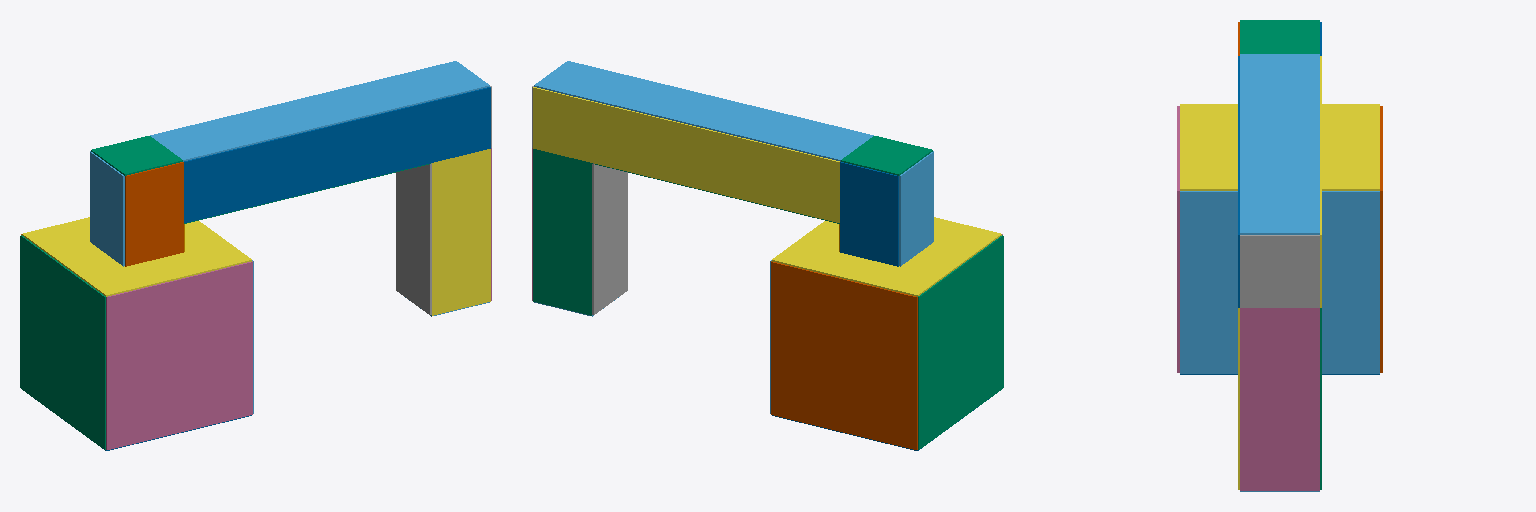
--- Render facts (derived) ---
3 views of the same robot in one strip: view 1: azimuth 30°, elevation 25°; view 2: azimuth 150°, elevation 25°; view 3: azimuth 270°, elevation 25° (orthographic).
Model robot with 37 links and 36 joints (1 continuous, 35 fixed), rooted at body, posed every joint at zero.
Links seen in each view (by area): view 1: body_sensor_0_right, arm_sensor_0_right, body_sensor_0_stop, arm_sensor_0_top, hand_1_sensor_0_right, body_sensor_0_top, shoulder_sensor_0_right, hand_1_sensor_0_stop, shoulder_sensor_0_stop, shoulder_sensor_0_top; view 2: body_sensor_0_left, arm_sensor_0_left, body_sensor_0_stop, arm_sensor_0_top, hand_1_sensor_0_left, body_sensor_0_top, shoulder_sensor_0_left, hand_1_sensor_0_stop, shoulder_sensor_0_stop, shoulder_sensor_0_top; view 3: body_sensor_0_start, hand_1_sensor_0_start, arm_sensor_0_top, body_sensor_0_top, arm_sensor_0_start, shoulder_sensor_0_top, body_sensor_0_left, body_sensor_0_right.
Link boxes in pixels (bbox=[...]): body_sensor_0_right: bbox=[106, 261, 252, 449]; arm_sensor_0_right: bbox=[184, 87, 490, 222]; body_sensor_0_stop: bbox=[20, 235, 105, 449]; arm_sensor_0_top: bbox=[150, 61, 489, 161]; hand_1_sensor_0_right: bbox=[432, 149, 490, 315]; body_sensor_0_top: bbox=[22, 217, 251, 296]; shoulder_sensor_0_right: bbox=[125, 162, 183, 266]; hand_1_sensor_0_stop: bbox=[396, 163, 431, 314]; shoulder_sensor_0_stop: bbox=[90, 151, 124, 266]; shoulder_sensor_0_top: bbox=[91, 136, 182, 175]; body_sensor_0_left: bbox=[771, 261, 917, 449]; arm_sensor_0_left: bbox=[533, 87, 839, 222]; body_sensor_0_stop: bbox=[918, 235, 1003, 449]; arm_sensor_0_top: bbox=[534, 61, 873, 161]; hand_1_sensor_0_left: bbox=[533, 149, 591, 315]; body_sensor_0_top: bbox=[772, 217, 1001, 296]; shoulder_sensor_0_left: bbox=[840, 162, 898, 266]; hand_1_sensor_0_stop: bbox=[592, 163, 627, 314]; shoulder_sensor_0_stop: bbox=[899, 151, 933, 266]; shoulder_sensor_0_top: bbox=[841, 136, 932, 175]; body_sensor_0_start: bbox=[1180, 191, 1379, 373]; hand_1_sensor_0_start: bbox=[1240, 308, 1319, 490]; arm_sensor_0_top: bbox=[1240, 54, 1319, 234]; body_sensor_0_top: bbox=[1180, 104, 1379, 190]; arm_sensor_0_start: bbox=[1240, 235, 1319, 307]; shoulder_sensor_0_top: bbox=[1240, 20, 1319, 53]; body_sensor_0_left: bbox=[1380, 106, 1382, 372]; body_sensor_0_right: bbox=[1177, 106, 1179, 372].
Bounding box of the posed robot: 2.82 × 1.02 × 1.62 m (x, y, z).
Geometry: primitives only (box / cylinder / sphere), no mesh files.

URDF robot description (robot):
<?xml version="1.0"?>
<robot name="robot">


    <!-- body -->
    <link name="body">
        <inertial>
            <origin xyz="0 0 0" rpy="0 0 0"/>
            <mass value="100"/>
            <inertia ixx=".1" ixy=".1" ixz=".1" iyy=".1" iyz=".1" izz=".1"/>
        </inertial>
        <visual>
            <origin xyz="0 0 0" rpy="0 0 0"/>
            <geometry>
                <box size="1 1 1"/>
            </geometry>
        </visual>
        <collision>
            <origin xyz="0 0 0" rpy="0 0 0"/>
            <geometry>
                <box size="1 1 1"/>
            </geometry>
        </collision>
    </link>


    <!-- body_sensor_0_start -->
    <link name="body_sensor_0_start">
        <inertial>
            <origin xyz="0 0 0" rpy="0 0 0"/>
            <mass value="0"/>
            <inertia ixx=".1" ixy=".1" ixz=".1" iyy=".1" iyz=".1" izz=".1"/>
        </inertial>
        <visual>
            <origin xyz="0 0 0" rpy="0 0 0"/>
            <geometry>
                <box size="0.02 1 1"/>
            </geometry>
        </visual>
        <collision>
            <origin xyz="0 0 0" rpy="0 0 0"/>
            <geometry>
                <box size="0.02 1 1"/>
            </geometry>
        </collision>
    </link>
    <!-- Joint: body, body_sensor_0_start -->
    <joint name="body_body_sensor_0_start_joint" type="fixed">
        <parent link="body"/>
        <child link="body_sensor_0_start"/>
        <origin xyz="0.5 0 0"
                rpy="0 0 0"/>
        <axis xyz="0 0 1"/>
        
    </joint>


    <!-- body_sensor_0_stop -->
    <link name="body_sensor_0_stop">
        <inertial>
            <origin xyz="0 0 0" rpy="0 0 0"/>
            <mass value="0"/>
            <inertia ixx=".1" ixy=".1" ixz=".1" iyy=".1" iyz=".1" izz=".1"/>
        </inertial>
        <visual>
            <origin xyz="0 0 0" rpy="0 0 0"/>
            <geometry>
                <box size="0.02 1 1"/>
            </geometry>
        </visual>
        <collision>
            <origin xyz="0 0 0" rpy="0 0 0"/>
            <geometry>
                <box size="0.02 1 1"/>
            </geometry>
        </collision>
    </link>
    <!-- Joint: body, body_sensor_0_stop -->
    <joint name="body_body_sensor_0_stop_joint" type="fixed">
        <parent link="body"/>
        <child link="body_sensor_0_stop"/>
        <origin xyz="-0.5 0 0"
                rpy="0 0 0"/>
        <axis xyz="0 0 1"/>
        
    </joint>


    <!-- body_sensor_0_top -->
    <link name="body_sensor_0_top">
        <inertial>
            <origin xyz="0 0 0" rpy="0 0 0"/>
            <mass value="0"/>
            <inertia ixx=".1" ixy=".1" ixz=".1" iyy=".1" iyz=".1" izz=".1"/>
        </inertial>
        <visual>
            <origin xyz="0 0 0" rpy="0 0 0"/>
            <geometry>
                <box size="1.0 1 0.02"/>
            </geometry>
        </visual>
        <collision>
            <origin xyz="0 0 0" rpy="0 0 0"/>
            <geometry>
                <box size="1.0 1 0.02"/>
            </geometry>
        </collision>
    </link>
    <!-- Joint: body, body_sensor_0_top -->
    <joint name="body_body_sensor_0_top_joint" type="fixed">
        <parent link="body"/>
        <child link="body_sensor_0_top"/>
        <origin xyz="0 0 0.5"
                rpy="0 0 0"/>
        <axis xyz="0 0 1"/>
        
    </joint>


    <!-- body_sensor_0_bottom -->
    <link name="body_sensor_0_bottom">
        <inertial>
            <origin xyz="0 0 0" rpy="0 0 0"/>
            <mass value="0"/>
            <inertia ixx=".1" ixy=".1" ixz=".1" iyy=".1" iyz=".1" izz=".1"/>
        </inertial>
        <visual>
            <origin xyz="0 0 0" rpy="0 0 0"/>
            <geometry>
                <box size="1.0 1 0.02"/>
            </geometry>
        </visual>
        <collision>
            <origin xyz="0 0 0" rpy="0 0 0"/>
            <geometry>
                <box size="1.0 1 0.02"/>
            </geometry>
        </collision>
    </link>
    <!-- Joint: body, body_sensor_0_bottom -->
    <joint name="body_body_sensor_0_bottom_joint" type="fixed">
        <parent link="body"/>
        <child link="body_sensor_0_bottom"/>
        <origin xyz="0 0 -0.5"
                rpy="0 0 0"/>
        <axis xyz="0 0 1"/>
        
    </joint>


    <!-- body_sensor_0_left -->
    <link name="body_sensor_0_left">
        <inertial>
            <origin xyz="0 0 0" rpy="0 0 0"/>
            <mass value="0"/>
            <inertia ixx=".1" ixy=".1" ixz=".1" iyy=".1" iyz=".1" izz=".1"/>
        </inertial>
        <visual>
            <origin xyz="0 0 0" rpy="0 0 0"/>
            <geometry>
                <box size="1.0 0.02 1"/>
            </geometry>
        </visual>
        <collision>
            <origin xyz="0 0 0" rpy="0 0 0"/>
            <geometry>
                <box size="1.0 0.02 1"/>
            </geometry>
        </collision>
    </link>
    <!-- Joint: body, body_sensor_0_left -->
    <joint name="body_body_sensor_0_left_joint" type="fixed">
        <parent link="body"/>
        <child link="body_sensor_0_left"/>
        <origin xyz="0 0.5 0"
                rpy="0 0 0"/>
        <axis xyz="0 0 1"/>
        
    </joint>


    <!-- body_sensor_0_right -->
    <link name="body_sensor_0_right">
        <inertial>
            <origin xyz="0 0 0" rpy="0 0 0"/>
            <mass value="0"/>
            <inertia ixx=".1" ixy=".1" ixz=".1" iyy=".1" iyz=".1" izz=".1"/>
        </inertial>
        <visual>
            <origin xyz="0 0 0" rpy="0 0 0"/>
            <geometry>
                <box size="1.0 0.02 1"/>
            </geometry>
        </visual>
        <collision>
            <origin xyz="0 0 0" rpy="0 0 0"/>
            <geometry>
                <box size="1.0 0.02 1"/>
            </geometry>
        </collision>
    </link>
    <!-- Joint: body, body_sensor_0_right -->
    <joint name="body_body_sensor_0_right_joint" type="fixed">
        <parent link="body"/>
        <child link="body_sensor_0_right"/>
        <origin xyz="0 -0.5 0"
                rpy="0 0 0"/>
        <axis xyz="0 0 1"/>
        
    </joint>


    <!-- shoulder -->
    <link name="shoulder">
        <inertial>
            <origin xyz="0 0 0" rpy="0 0 0"/>
            <mass value="10"/>
            <inertia ixx=".1" ixy=".1" ixz=".1" iyy=".1" iyz=".1" izz=".1"/>
        </inertial>
        <visual>
            <origin xyz="0 0 0" rpy="0 0 0"/>
            <geometry>
                <box size="0.4 0.4 0.8"/>
            </geometry>
        </visual>
        <collision>
            <origin xyz="0 0 0" rpy="0 0 0"/>
            <geometry>
                <box size="0.4 0.4 0.8"/>
            </geometry>
        </collision>
    </link>


    <!-- shoulder_sensor_0_start -->
    <link name="shoulder_sensor_0_start">
        <inertial>
            <origin xyz="0 0 0" rpy="0 0 0"/>
            <mass value="0"/>
            <inertia ixx=".1" ixy=".1" ixz=".1" iyy=".1" iyz=".1" izz=".1"/>
        </inertial>
        <visual>
            <origin xyz="0 0 0" rpy="0 0 0"/>
            <geometry>
                <box size="0.02 0.4 0.8"/>
            </geometry>
        </visual>
        <collision>
            <origin xyz="0 0 0" rpy="0 0 0"/>
            <geometry>
                <box size="0.02 0.4 0.8"/>
            </geometry>
        </collision>
    </link>
    <!-- Joint: shoulder, shoulder_sensor_0_start -->
    <joint name="shoulder_shoulder_sensor_0_start_joint" type="fixed">
        <parent link="shoulder"/>
        <child link="shoulder_sensor_0_start"/>
        <origin xyz="0.2 0 0"
                rpy="0 0 0"/>
        <axis xyz="0 0 1"/>
        
    </joint>


    <!-- shoulder_sensor_0_stop -->
    <link name="shoulder_sensor_0_stop">
        <inertial>
            <origin xyz="0 0 0" rpy="0 0 0"/>
            <mass value="0"/>
            <inertia ixx=".1" ixy=".1" ixz=".1" iyy=".1" iyz=".1" izz=".1"/>
        </inertial>
        <visual>
            <origin xyz="0 0 0" rpy="0 0 0"/>
            <geometry>
                <box size="0.02 0.4 0.8"/>
            </geometry>
        </visual>
        <collision>
            <origin xyz="0 0 0" rpy="0 0 0"/>
            <geometry>
                <box size="0.02 0.4 0.8"/>
            </geometry>
        </collision>
    </link>
    <!-- Joint: shoulder, shoulder_sensor_0_stop -->
    <joint name="shoulder_shoulder_sensor_0_stop_joint" type="fixed">
        <parent link="shoulder"/>
        <child link="shoulder_sensor_0_stop"/>
        <origin xyz="-0.2 0 0"
                rpy="0 0 0"/>
        <axis xyz="0 0 1"/>
        
    </joint>


    <!-- shoulder_sensor_0_top -->
    <link name="shoulder_sensor_0_top">
        <inertial>
            <origin xyz="0 0 0" rpy="0 0 0"/>
            <mass value="0"/>
            <inertia ixx=".1" ixy=".1" ixz=".1" iyy=".1" iyz=".1" izz=".1"/>
        </inertial>
        <visual>
            <origin xyz="0 0 0" rpy="0 0 0"/>
            <geometry>
                <box size="0.4 0.4 0.02"/>
            </geometry>
        </visual>
        <collision>
            <origin xyz="0 0 0" rpy="0 0 0"/>
            <geometry>
                <box size="0.4 0.4 0.02"/>
            </geometry>
        </collision>
    </link>
    <!-- Joint: shoulder, shoulder_sensor_0_top -->
    <joint name="shoulder_shoulder_sensor_0_top_joint" type="fixed">
        <parent link="shoulder"/>
        <child link="shoulder_sensor_0_top"/>
        <origin xyz="0 0 0.4"
                rpy="0 0 0"/>
        <axis xyz="0 0 1"/>
        
    </joint>


    <!-- shoulder_sensor_0_bottom -->
    <link name="shoulder_sensor_0_bottom">
        <inertial>
            <origin xyz="0 0 0" rpy="0 0 0"/>
            <mass value="0"/>
            <inertia ixx=".1" ixy=".1" ixz=".1" iyy=".1" iyz=".1" izz=".1"/>
        </inertial>
        <visual>
            <origin xyz="0 0 0" rpy="0 0 0"/>
            <geometry>
                <box size="0.4 0.4 0.02"/>
            </geometry>
        </visual>
        <collision>
            <origin xyz="0 0 0" rpy="0 0 0"/>
            <geometry>
                <box size="0.4 0.4 0.02"/>
            </geometry>
        </collision>
    </link>
    <!-- Joint: shoulder, shoulder_sensor_0_bottom -->
    <joint name="shoulder_shoulder_sensor_0_bottom_joint" type="fixed">
        <parent link="shoulder"/>
        <child link="shoulder_sensor_0_bottom"/>
        <origin xyz="0 0 -0.4"
                rpy="0 0 0"/>
        <axis xyz="0 0 1"/>
        
    </joint>


    <!-- shoulder_sensor_0_left -->
    <link name="shoulder_sensor_0_left">
        <inertial>
            <origin xyz="0 0 0" rpy="0 0 0"/>
            <mass value="0"/>
            <inertia ixx=".1" ixy=".1" ixz=".1" iyy=".1" iyz=".1" izz=".1"/>
        </inertial>
        <visual>
            <origin xyz="0 0 0" rpy="0 0 0"/>
            <geometry>
                <box size="0.4 0.02 0.8"/>
            </geometry>
        </visual>
        <collision>
            <origin xyz="0 0 0" rpy="0 0 0"/>
            <geometry>
                <box size="0.4 0.02 0.8"/>
            </geometry>
        </collision>
    </link>
    <!-- Joint: shoulder, shoulder_sensor_0_left -->
    <joint name="shoulder_shoulder_sensor_0_left_joint" type="fixed">
        <parent link="shoulder"/>
        <child link="shoulder_sensor_0_left"/>
        <origin xyz="0 0.2 0"
                rpy="0 0 0"/>
        <axis xyz="0 0 1"/>
        
    </joint>


    <!-- shoulder_sensor_0_right -->
    <link name="shoulder_sensor_0_right">
        <inertial>
            <origin xyz="0 0 0" rpy="0 0 0"/>
            <mass value="0"/>
            <inertia ixx=".1" ixy=".1" ixz=".1" iyy=".1" iyz=".1" izz=".1"/>
        </inertial>
        <visual>
            <origin xyz="0 0 0" rpy="0 0 0"/>
            <geometry>
                <box size="0.4 0.02 0.8"/>
            </geometry>
        </visual>
        <collision>
            <origin xyz="0 0 0" rpy="0 0 0"/>
            <geometry>
                <box size="0.4 0.02 0.8"/>
            </geometry>
        </collision>
    </link>
    <!-- Joint: shoulder, shoulder_sensor_0_right -->
    <joint name="shoulder_shoulder_sensor_0_right_joint" type="fixed">
        <parent link="shoulder"/>
        <child link="shoulder_sensor_0_right"/>
        <origin xyz="0 -0.2 0"
                rpy="0 0 0"/>
        <axis xyz="0 0 1"/>
        
    </joint>
    <!-- Joint: body, shoulder -->
    <joint name="body_shoulder_joint" type="continuous">
        <parent link="body"/>
        <child link="shoulder"/>
        <origin xyz="0 0 0.7"
                rpy="0 0 0"/>
        <axis xyz="0 0 1"/>
        <limit lower="0" upper="0" effort="0" velocity="0"/>
    </joint>


    <!-- arm -->
    <link name="arm">
        <inertial>
            <origin xyz="0 0 0" rpy="0 0 0"/>
            <mass value="10"/>
            <inertia ixx=".1" ixy=".1" ixz=".1" iyy=".1" iyz=".1" izz=".1"/>
        </inertial>
        <visual>
            <origin xyz="0 0 0" rpy="0 0 0"/>
            <geometry>
                <box size="2.1 0.4 0.4"/>
            </geometry>
        </visual>
        <collision>
            <origin xyz="0 0 0" rpy="0 0 0"/>
            <geometry>
                <box size="2.1 0.4 0.4"/>
            </geometry>
        </collision>
    </link>


    <!-- arm_sensor_0_start -->
    <link name="arm_sensor_0_start">
        <inertial>
            <origin xyz="0 0 0" rpy="0 0 0"/>
            <mass value="0"/>
            <inertia ixx=".1" ixy=".1" ixz=".1" iyy=".1" iyz=".1" izz=".1"/>
        </inertial>
        <visual>
            <origin xyz="0 0 0" rpy="0 0 0"/>
            <geometry>
                <box size="0.02 0.4 0.4"/>
            </geometry>
        </visual>
        <collision>
            <origin xyz="0 0 0" rpy="0 0 0"/>
            <geometry>
                <box size="0.02 0.4 0.4"/>
            </geometry>
        </collision>
    </link>
    <!-- Joint: arm, arm_sensor_0_start -->
    <joint name="arm_arm_sensor_0_start_joint" type="fixed">
        <parent link="arm"/>
        <child link="arm_sensor_0_start"/>
        <origin xyz="1.05 0 0"
                rpy="0 0 0"/>
        <axis xyz="0 1 0"/>
        
    </joint>


    <!-- arm_sensor_0_stop -->
    <link name="arm_sensor_0_stop">
        <inertial>
            <origin xyz="0 0 0" rpy="0 0 0"/>
            <mass value="0"/>
            <inertia ixx=".1" ixy=".1" ixz=".1" iyy=".1" iyz=".1" izz=".1"/>
        </inertial>
        <visual>
            <origin xyz="0 0 0" rpy="0 0 0"/>
            <geometry>
                <box size="0.02 0.4 0.4"/>
            </geometry>
        </visual>
        <collision>
            <origin xyz="0 0 0" rpy="0 0 0"/>
            <geometry>
                <box size="0.02 0.4 0.4"/>
            </geometry>
        </collision>
    </link>
    <!-- Joint: arm, arm_sensor_0_stop -->
    <joint name="arm_arm_sensor_0_stop_joint" type="fixed">
        <parent link="arm"/>
        <child link="arm_sensor_0_stop"/>
        <origin xyz="-1.05 0 0"
                rpy="0 0 0"/>
        <axis xyz="0 1 0"/>
        
    </joint>


    <!-- arm_sensor_0_top -->
    <link name="arm_sensor_0_top">
        <inertial>
            <origin xyz="0 0 0" rpy="0 0 0"/>
            <mass value="0"/>
            <inertia ixx=".1" ixy=".1" ixz=".1" iyy=".1" iyz=".1" izz=".1"/>
        </inertial>
        <visual>
            <origin xyz="0 0 0" rpy="0 0 0"/>
            <geometry>
                <box size="2.1 0.4 0.02"/>
            </geometry>
        </visual>
        <collision>
            <origin xyz="0 0 0" rpy="0 0 0"/>
            <geometry>
                <box size="2.1 0.4 0.02"/>
            </geometry>
        </collision>
    </link>
    <!-- Joint: arm, arm_sensor_0_top -->
    <joint name="arm_arm_sensor_0_top_joint" type="fixed">
        <parent link="arm"/>
        <child link="arm_sensor_0_top"/>
        <origin xyz="0 0 0.2"
                rpy="0 0 0"/>
        <axis xyz="0 1 0"/>
        
    </joint>


    <!-- arm_sensor_0_bottom -->
    <link name="arm_sensor_0_bottom">
        <inertial>
            <origin xyz="0 0 0" rpy="0 0 0"/>
            <mass value="0"/>
            <inertia ixx=".1" ixy=".1" ixz=".1" iyy=".1" iyz=".1" izz=".1"/>
        </inertial>
        <visual>
            <origin xyz="0 0 0" rpy="0 0 0"/>
            <geometry>
                <box size="2.1 0.4 0.02"/>
            </geometry>
        </visual>
        <collision>
            <origin xyz="0 0 0" rpy="0 0 0"/>
            <geometry>
                <box size="2.1 0.4 0.02"/>
            </geometry>
        </collision>
    </link>
    <!-- Joint: arm, arm_sensor_0_bottom -->
    <joint name="arm_arm_sensor_0_bottom_joint" type="fixed">
        <parent link="arm"/>
        <child link="arm_sensor_0_bottom"/>
        <origin xyz="0 0 -0.2"
                rpy="0 0 0"/>
        <axis xyz="0 1 0"/>
        
    </joint>


    <!-- arm_sensor_0_left -->
    <link name="arm_sensor_0_left">
        <inertial>
            <origin xyz="0 0 0" rpy="0 0 0"/>
            <mass value="0"/>
            <inertia ixx=".1" ixy=".1" ixz=".1" iyy=".1" iyz=".1" izz=".1"/>
        </inertial>
        <visual>
            <origin xyz="0 0 0" rpy="0 0 0"/>
            <geometry>
                <box size="2.1 0.02 0.4"/>
            </geometry>
        </visual>
        <collision>
            <origin xyz="0 0 0" rpy="0 0 0"/>
            <geometry>
                <box size="2.1 0.02 0.4"/>
            </geometry>
        </collision>
    </link>
    <!-- Joint: arm, arm_sensor_0_left -->
    <joint name="arm_arm_sensor_0_left_joint" type="fixed">
        <parent link="arm"/>
        <child link="arm_sensor_0_left"/>
        <origin xyz="0 0.2 0"
                rpy="0 0 0"/>
        <axis xyz="0 1 0"/>
        
    </joint>


    <!-- arm_sensor_0_right -->
    <link name="arm_sensor_0_right">
        <inertial>
            <origin xyz="0 0 0" rpy="0 0 0"/>
            <mass value="0"/>
            <inertia ixx=".1" ixy=".1" ixz=".1" iyy=".1" iyz=".1" izz=".1"/>
        </inertial>
        <visual>
            <origin xyz="0 0 0" rpy="0 0 0"/>
            <geometry>
                <box size="2.1 0.02 0.4"/>
            </geometry>
        </visual>
        <collision>
            <origin xyz="0 0 0" rpy="0 0 0"/>
            <geometry>
                <box size="2.1 0.02 0.4"/>
            </geometry>
        </collision>
    </link>
    <!-- Joint: arm, arm_sensor_0_right -->
    <joint name="arm_arm_sensor_0_right_joint" type="fixed">
        <parent link="arm"/>
        <child link="arm_sensor_0_right"/>
        <origin xyz="0 -0.2 0"
                rpy="0 0 0"/>
        <axis xyz="0 1 0"/>
        
    </joint>
    <!-- Joint: shoulder, arm -->
    <joint name="shoulder_arm_joint" type="fixed">
        <parent link="shoulder"/>
        <child link="arm"/>
        <origin xyz="1.25 0 0.2"
                rpy="0 0 0"/>
        <axis xyz="0 1 0"/>
        
    </joint>


    <!-- hand_1 -->
    <link name="hand_1">
        <inertial>
            <origin xyz="0 0 0" rpy="0 0 0"/>
            <mass value="10"/>
            <inertia ixx=".1" ixy=".1" ixz=".1" iyy=".1" iyz=".1" izz=".1"/>
        </inertial>
        <visual>
            <origin xyz="0 0 0" rpy="0 0 0"/>
            <geometry>
                <box size="0.4 0.4 1"/>
            </geometry>
        </visual>
        <collision>
            <origin xyz="0 0 0" rpy="0 0 0"/>
            <geometry>
                <box size="0.4 0.4 1"/>
            </geometry>
        </collision>
    </link>


    <!-- hand_1_sensor_0_start -->
    <link name="hand_1_sensor_0_start">
        <inertial>
            <origin xyz="0 0 0" rpy="0 0 0"/>
            <mass value="0"/>
            <inertia ixx=".1" ixy=".1" ixz=".1" iyy=".1" iyz=".1" izz=".1"/>
        </inertial>
        <visual>
            <origin xyz="0 0 0" rpy="0 0 0"/>
            <geometry>
                <box size="0.02 0.4 1"/>
            </geometry>
        </visual>
        <collision>
            <origin xyz="0 0 0" rpy="0 0 0"/>
            <geometry>
                <box size="0.02 0.4 1"/>
            </geometry>
        </collision>
    </link>
    <!-- Joint: hand_1, hand_1_sensor_0_start -->
    <joint name="hand_1_hand_1_sensor_0_start_joint" type="fixed">
        <parent link="hand_1"/>
        <child link="hand_1_sensor_0_start"/>
        <origin xyz="0.2 0 0"
                rpy="0 0 0"/>
        <axis xyz="0 1 0"/>
        
    </joint>


    <!-- hand_1_sensor_0_stop -->
    <link name="hand_1_sensor_0_stop">
        <inertial>
            <origin xyz="0 0 0" rpy="0 0 0"/>
            <mass value="0"/>
            <inertia ixx=".1" ixy=".1" ixz=".1" iyy=".1" iyz=".1" izz=".1"/>
        </inertial>
        <visual>
            <origin xyz="0 0 0" rpy="0 0 0"/>
            <geometry>
                <box size="0.02 0.4 1"/>
            </geometry>
        </visual>
        <collision>
            <origin xyz="0 0 0" rpy="0 0 0"/>
            <geometry>
                <box size="0.02 0.4 1"/>
            </geometry>
        </collision>
    </link>
    <!-- Joint: hand_1, hand_1_sensor_0_stop -->
    <joint name="hand_1_hand_1_sensor_0_stop_joint" type="fixed">
        <parent link="hand_1"/>
        <child link="hand_1_sensor_0_stop"/>
        <origin xyz="-0.2 0 0"
                rpy="0 0 0"/>
        <axis xyz="0 1 0"/>
        
    </joint>


    <!-- hand_1_sensor_0_top -->
    <link name="hand_1_sensor_0_top">
        <inertial>
            <origin xyz="0 0 0" rpy="0 0 0"/>
            <mass value="0"/>
            <inertia ixx=".1" ixy=".1" ixz=".1" iyy=".1" iyz=".1" izz=".1"/>
        </inertial>
        <visual>
            <origin xyz="0 0 0" rpy="0 0 0"/>
            <geometry>
                <box size="0.4 0.4 0.02"/>
            </geometry>
        </visual>
        <collision>
            <origin xyz="0 0 0" rpy="0 0 0"/>
            <geometry>
                <box size="0.4 0.4 0.02"/>
            </geometry>
        </collision>
    </link>
    <!-- Joint: hand_1, hand_1_sensor_0_top -->
    <joint name="hand_1_hand_1_sensor_0_top_joint" type="fixed">
        <parent link="hand_1"/>
        <child link="hand_1_sensor_0_top"/>
        <origin xyz="0 0 0.5"
                rpy="0 0 0"/>
        <axis xyz="0 1 0"/>
        
    </joint>


    <!-- hand_1_sensor_0_bottom -->
    <link name="hand_1_sensor_0_bottom">
        <inertial>
            <origin xyz="0 0 0" rpy="0 0 0"/>
            <mass value="0"/>
            <inertia ixx=".1" ixy=".1" ixz=".1" iyy=".1" iyz=".1" izz=".1"/>
        </inertial>
        <visual>
            <origin xyz="0 0 0" rpy="0 0 0"/>
            <geometry>
                <box size="0.4 0.4 0.02"/>
            </geometry>
        </visual>
        <collision>
            <origin xyz="0 0 0" rpy="0 0 0"/>
            <geometry>
                <box size="0.4 0.4 0.02"/>
            </geometry>
        </collision>
    </link>
    <!-- Joint: hand_1, hand_1_sensor_0_bottom -->
    <joint name="hand_1_hand_1_sensor_0_bottom_joint" type="fixed">
        <parent link="hand_1"/>
        <child link="hand_1_sensor_0_bottom"/>
        <origin xyz="0 0 -0.5"
                rpy="0 0 0"/>
        <axis xyz="0 1 0"/>
        
    </joint>


    <!-- hand_1_sensor_0_left -->
    <link name="hand_1_sensor_0_left">
        <inertial>
            <origin xyz="0 0 0" rpy="0 0 0"/>
            <mass value="0"/>
            <inertia ixx=".1" ixy=".1" ixz=".1" iyy=".1" iyz=".1" izz=".1"/>
        </inertial>
        <visual>
            <origin xyz="0 0 0" rpy="0 0 0"/>
            <geometry>
                <box size="0.4 0.02 1"/>
            </geometry>
        </visual>
        <collision>
            <origin xyz="0 0 0" rpy="0 0 0"/>
            <geometry>
                <box size="0.4 0.02 1"/>
            </geometry>
        </collision>
    </link>
    <!-- Joint: hand_1, hand_1_sensor_0_left -->
    <joint name="hand_1_hand_1_sensor_0_left_joint" type="fixed">
        <parent link="hand_1"/>
        <child link="hand_1_sensor_0_left"/>
        <origin xyz="0 0.2 0"
                rpy="0 0 0"/>
        <axis xyz="0 1 0"/>
        
    </joint>


    <!-- hand_1_sensor_0_right -->
    <link name="hand_1_sensor_0_right">
        <inertial>
            <origin xyz="0 0 0" rpy="0 0 0"/>
            <mass value="0"/>
            <inertia ixx=".1" ixy=".1" ixz=".1" iyy=".1" iyz=".1" izz=".1"/>
        </inertial>
        <visual>
            <origin xyz="0 0 0" rpy="0 0 0"/>
            <geometry>
                <box size="0.4 0.02 1"/>
            </geometry>
        </visual>
        <collision>
            <origin xyz="0 0 0" rpy="0 0 0"/>
            <geometry>
                <box size="0.4 0.02 1"/>
            </geometry>
        </collision>
    </link>
    <!-- Joint: hand_1, hand_1_sensor_0_right -->
    <joint name="hand_1_hand_1_sensor_0_right_joint" type="fixed">
        <parent link="hand_1"/>
        <child link="hand_1_sensor_0_right"/>
        <origin xyz="0 -0.2 0"
                rpy="0 0 0"/>
        <axis xyz="0 1 0"/>
        
    </joint>
    <!-- Joint: arm, hand_1 -->
    <joint name="arm_hand_1_joint" type="fixed">
        <parent link="arm"/>
        <child link="hand_1"/>
        <origin xyz="0.8500000000000001 0 -0.7"
                rpy="0 0 0"/>
        <axis xyz="0 1 0"/>
        
    </joint>


    <!-- body_face_0 -->
    <link name="body_face_0">
        <inertial>
            <origin xyz="0 0 0" rpy="0 0 0"/>
            <mass value="0"/>
            <inertia ixx=".1" ixy=".1" ixz=".1" iyy=".1" iyz=".1" izz=".1"/>
        </inertial>
        <visual>
            <origin xyz="0 0 0" rpy="0 0 0"/>
            <geometry>
                <box size="0.002 0.1111111111111111 0.1111111111111111"/>
            </geometry>
        </visual>
        <collision>
            <origin xyz="0 0 0" rpy="0 0 0"/>
            <geometry>
                <box size="0.002 0.1111111111111111 0.1111111111111111"/>
            </geometry>
        </collision>
    </link>
    <!-- Joint: body, body_face_0 -->
    <joint name="body_body_face_0_joint" type="fixed">
        <parent link="body"/>
        <child link="body_face_0"/>
        <origin xyz="0.501 -0.33333333333333337 0.11111111111111116"
                rpy="0 0 0"/>
        <axis xyz="0 0 1"/>
        
    </joint>


    <!-- body_face_1 -->
    <link name="body_face_1">
        <inertial>
            <origin xyz="0 0 0" rpy="0 0 0"/>
            <mass value="0"/>
            <inertia ixx=".1" ixy=".1" ixz=".1" iyy=".1" iyz=".1" izz=".1"/>
        </inertial>
        <visual>
            <origin xyz="0 0 0" rpy="0 0 0"/>
            <geometry>
                <box size="0.002 0.1111111111111111 0.1111111111111111"/>
            </geometry>
        </visual>
        <collision>
            <origin xyz="0 0 0" rpy="0 0 0"/>
            <geometry>
                <box size="0.002 0.1111111111111111 0.1111111111111111"/>
            </geometry>
        </collision>
    </link>
    <!-- Joint: body, body_face_1 -->
    <joint name="body_body_face_1_joint" type="fixed">
        <parent link="body"/>
        <child link="body_face_1"/>
        <origin xyz="0.501 -0.2222222222222222 0.2222222222222222"
                rpy="0 0 0"/>
        <axis xyz="0 0 1"/>
        
    </joint>


    <!-- body_face_2 -->
    <link name="body_face_2">
        <inertial>
            <origin xyz="0 0 0" rpy="0 0 0"/>
            <mass value="0"/>
            <inertia ixx=".1" ixy=".1" ixz=".1" iyy=".1" iyz=".1" izz=".1"/>
        </inertial>
        <visual>
            <origin xyz="0 0 0" rpy="0 0 0"/>
            <geometry>
                <box size="0.002 0.1111111111111111 0.1111111111111111"/>
            </geometry>
        </visual>
        <collision>
            <origin xyz="0 0 0" rpy="0 0 0"/>
            <geometry>
                <box size="0.002 0.1111111111111111 0.1111111111111111"/>
            </geometry>
        </collision>
    </link>
    <!-- Joint: body, body_face_2 -->
    <joint name="body_body_face_2_joint" type="fixed">
        <parent link="body"/>
        <child link="body_face_2"/>
        <origin xyz="0.501 -0.1111111111111111 0.11111111111111116"
                rpy="0 0 0"/>
        <axis xyz="0 0 1"/>
        
    </joint>


    <!-- body_face_3 -->
    <link name="body_face_3">
        <inertial>
            <origin xyz="0 0 0" rpy="0 0 0"/>
            <mass value="0"/>
            <inertia ixx=".1" ixy=".1" ixz=".1" iyy=".1" iyz=".1" izz=".1"/>
        </inertial>
        <visual>
            <origin xyz="0 0 0" rpy="0 0 0"/>
            <geometry>
                <box size="0.002 0.1111111111111111 0.1111111111111111"/>
            </geometry>
        </visual>
        <collision>
            <origin xyz="0 0 0" rpy="0 0 0"/>
            <geometry>
                <box size="0.002 0.1111111111111111 0.1111111111111111"/>
            </geometry>
        </collision>
    </link>
    <!-- Joint: body, body_face_3 -->
    <joint name="body_body_face_3_joint" type="fixed">
        <parent link="body"/>
        <child link="body_face_3"/>
        <origin xyz="0.501 -0.1111111111111111 -0.2222222222222222"
                rpy="0 0 0"/>
        <axis xyz="0 0 1"/>
        
    </joint>


    <!-- body_face_4 -->
    <link name="body_face_4">
        <inertial>
            <origin xyz="0 0 0" rpy="0 0 0"/>
            <mass value="0"/>
            <inertia ixx=".1" ixy=".1" ixz=".1" iyy=".1" iyz=".1" izz=".1"/>
        </inertial>
        <visual>
            <origin xyz="0 0 0" rpy="0 0 0"/>
            <geometry>
                <box size="0.002 0.1111111111111111 0.1111111111111111"/>
            </geometry>
        </visual>
        <collision>
            <origin xyz="0 0 0" rpy="0 0 0"/>
            <geometry>
                <box size="0.002 0.1111111111111111 0.1111111111111111"/>
            </geometry>
        </collision>
    </link>
    <!-- Joint: body, body_face_4 -->
    <joint name="body_body_face_4_joint" type="fixed">
        <parent link="body"/>
        <child link="body_face_4"/>
        <origin xyz="0.501 0.0 -0.2222222222222222"
                rpy="0 0 0"/>
        <axis xyz="0 0 1"/>
        
    </joint>


    <!-- body_face_5 -->
    <link name="body_face_5">
        <inertial>
            <origin xyz="0 0 0" rpy="0 0 0"/>
            <mass value="0"/>
            <inertia ixx=".1" ixy=".1" ixz=".1" iyy=".1" iyz=".1" izz=".1"/>
        </inertial>
        <visual>
            <origin xyz="0 0 0" rpy="0 0 0"/>
            <geometry>
                <box size="0.002 0.1111111111111111 0.1111111111111111"/>
            </geometry>
        </visual>
        <collision>
            <origin xyz="0 0 0" rpy="0 0 0"/>
            <geometry>
                <box size="0.002 0.1111111111111111 0.1111111111111111"/>
            </geometry>
        </collision>
    </link>
    <!-- Joint: body, body_face_5 -->
    <joint name="body_body_face_5_joint" type="fixed">
        <parent link="body"/>
        <child link="body_face_5"/>
        <origin xyz="0.501 0.11111111111111116 0.11111111111111116"
                rpy="0 0 0"/>
        <axis xyz="0 0 1"/>
        
    </joint>


    <!-- body_face_6 -->
    <link name="body_face_6">
        <inertial>
            <origin xyz="0 0 0" rpy="0 0 0"/>
            <mass value="0"/>
            <inertia ixx=".1" ixy=".1" ixz=".1" iyy=".1" iyz=".1" izz=".1"/>
        </inertial>
        <visual>
            <origin xyz="0 0 0" rpy="0 0 0"/>
            <geometry>
                <box size="0.002 0.1111111111111111 0.1111111111111111"/>
            </geometry>
        </visual>
        <collision>
            <origin xyz="0 0 0" rpy="0 0 0"/>
            <geometry>
                <box size="0.002 0.1111111111111111 0.1111111111111111"/>
            </geometry>
        </collision>
    </link>
    <!-- Joint: body, body_face_6 -->
    <joint name="body_body_face_6_joint" type="fixed">
        <parent link="body"/>
        <child link="body_face_6"/>
        <origin xyz="0.501 0.11111111111111116 -0.2222222222222222"
                rpy="0 0 0"/>
        <axis xyz="0 0 1"/>
        
    </joint>


    <!-- body_face_7 -->
    <link name="body_face_7">
        <inertial>
            <origin xyz="0 0 0" rpy="0 0 0"/>
            <mass value="0"/>
            <inertia ixx=".1" ixy=".1" ixz=".1" iyy=".1" iyz=".1" izz=".1"/>
        </inertial>
        <visual>
            <origin xyz="0 0 0" rpy="0 0 0"/>
            <geometry>
                <box size="0.002 0.1111111111111111 0.1111111111111111"/>
            </geometry>
        </visual>
        <collision>
            <origin xyz="0 0 0" rpy="0 0 0"/>
            <geometry>
                <box size="0.002 0.1111111111111111 0.1111111111111111"/>
            </geometry>
        </collision>
    </link>
    <!-- Joint: body, body_face_7 -->
    <joint name="body_body_face_7_joint" type="fixed">
        <parent link="body"/>
        <child link="body_face_7"/>
        <origin xyz="0.501 0.2222222222222222 0.2222222222222222"
                rpy="0 0 0"/>
        <axis xyz="0 0 1"/>
        
    </joint>


    <!-- body_face_8 -->
    <link name="body_face_8">
        <inertial>
            <origin xyz="0 0 0" rpy="0 0 0"/>
            <mass value="0"/>
            <inertia ixx=".1" ixy=".1" ixz=".1" iyy=".1" iyz=".1" izz=".1"/>
        </inertial>
        <visual>
            <origin xyz="0 0 0" rpy="0 0 0"/>
            <geometry>
                <box size="0.002 0.1111111111111111 0.1111111111111111"/>
            </geometry>
        </visual>
        <collision>
            <origin xyz="0 0 0" rpy="0 0 0"/>
            <geometry>
                <box size="0.002 0.1111111111111111 0.1111111111111111"/>
            </geometry>
        </collision>
    </link>
    <!-- Joint: body, body_face_8 -->
    <joint name="body_body_face_8_joint" type="fixed">
        <parent link="body"/>
        <child link="body_face_8"/>
        <origin xyz="0.501 0.33333333333333337 0.11111111111111116"
                rpy="0 0 0"/>
        <axis xyz="0 0 1"/>
        
    </joint>


</robot>
